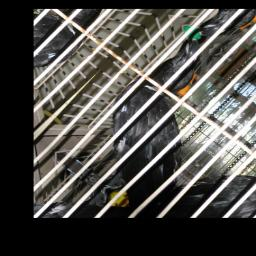Crow: (59, 29, 256, 217)
